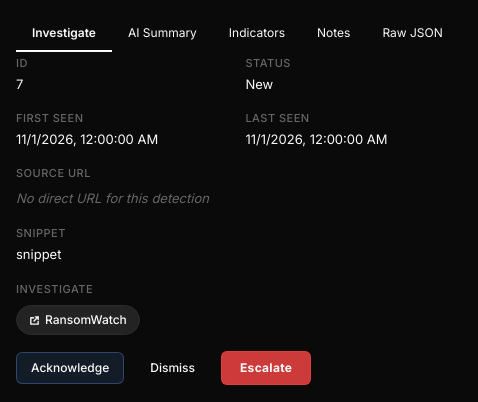
Test case: DetectionDetail Raw tab › sends one request for two quick clicks while one is pending
Click the button "Raw JSON" at (413, 34), box [366,16,459,52]
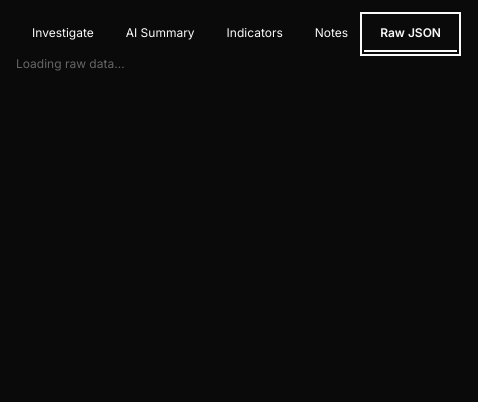
Click the button "Raw JSON" at (411, 34), box [364,16,457,52]
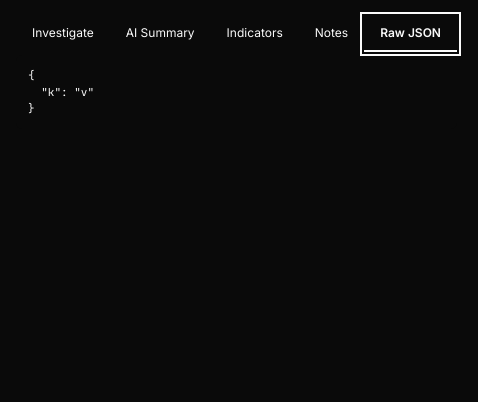
Check: the text "{ \"k\": \"v\" }" is shown, box [16,55,457,128]
